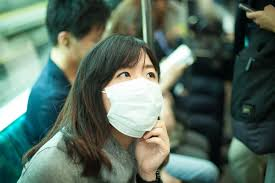surgical: (102, 79, 167, 136)
